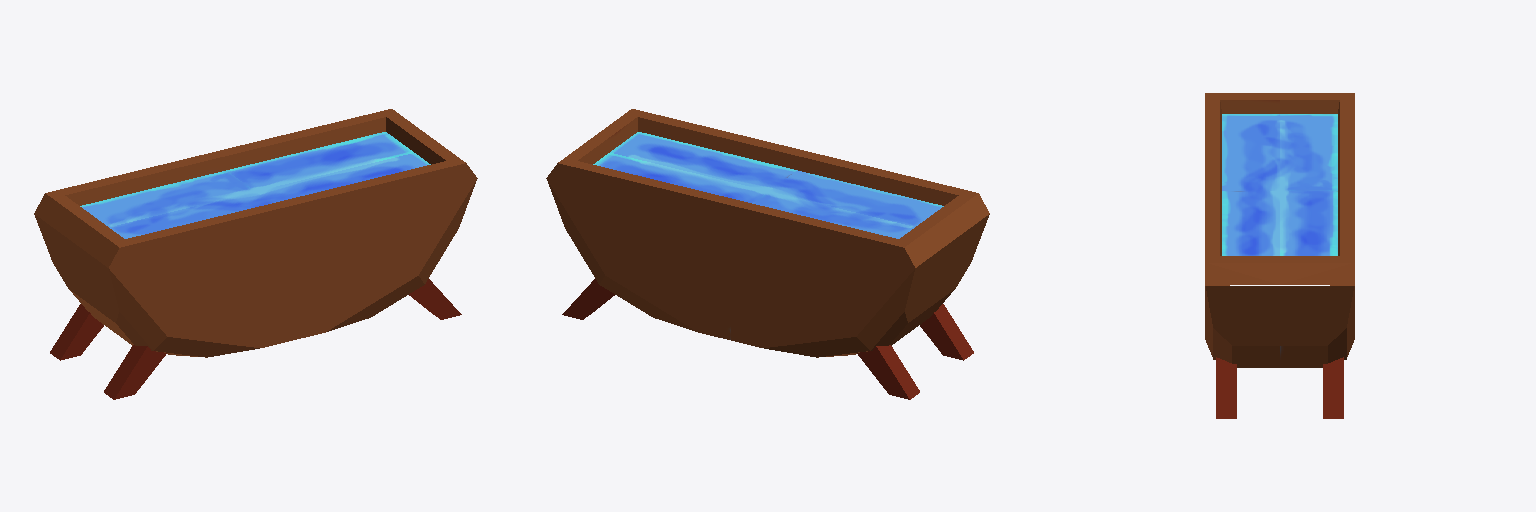
3 renders of one model, left to right at view 1: azimuth 30°, elevation 25°; view 2: azimuth 150°, elevation 25°; view 3: azimuth 270°, elevation 25°, orthographic.
Visible parts, largest first — view 1: Cube; view 2: Cube; view 3: Cube.
Boxes of the visible parts, x1,y1,x2,y2 form: Cube: [34, 109, 477, 399]; Cube: [546, 109, 989, 399]; Cube: [1205, 93, 1354, 418].
Bounding box in the file's own units: 2.81 × 1.13 × 0.9806.
Materials: 1 (1 with a texture image).